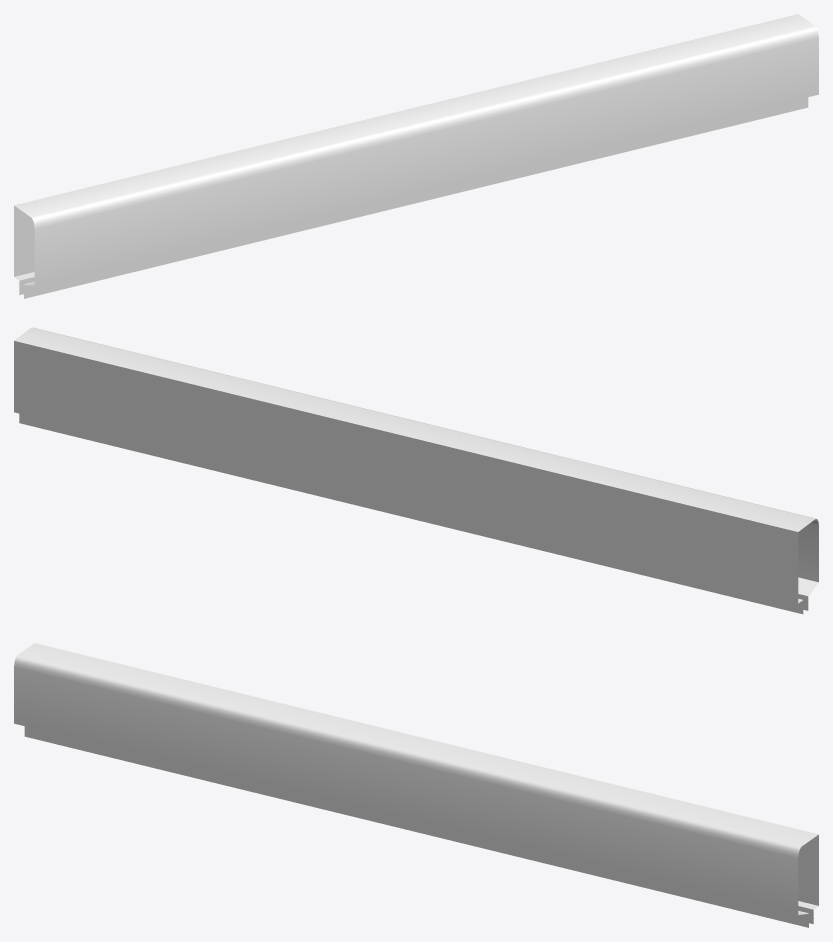
The model's file is original-39.obj.
The picture shows the model from 3 angles, top to bottom: view 1: azimuth 30°, elevation 25°; view 2: azimuth 150°, elevation 25°; view 3: azimuth 330°, elevation 25°; orthographic projection.
Parts seen in each view (by area): view 1: DF_11_TC1/DF_11_TC/mesh27/mesh27-geometry#mesh27-geometry; view 2: DF_11_TC1/DF_11_TC/mesh27/mesh27-geometry#mesh27-geometry; view 3: DF_11_TC1/DF_11_TC/mesh27/mesh27-geometry#mesh27-geometry.
Part boxes in pixels (left/top/right/bottom): DF_11_TC1/DF_11_TC/mesh27/mesh27-geometry#mesh27-geometry: left=14, top=14, right=818, bottom=298; DF_11_TC1/DF_11_TC/mesh27/mesh27-geometry#mesh27-geometry: left=14, top=327, right=818, bottom=614; DF_11_TC1/DF_11_TC/mesh27/mesh27-geometry#mesh27-geometry: left=14, top=643, right=818, bottom=927.
Bounding box in the file's own units: 0.6911 × 0.073 × 0.0316.
